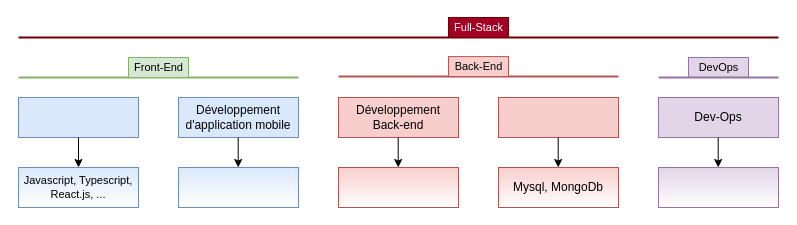
The diagram is 797 pixels wide and 225 high, and some of its shapes have lost their labels. The shapes that lost their labels are listed below. From the top down, each one's centre as x and y in pixels, then its label:
(78,117): Développement Front-End
(558,117): Base de donnée
(238,187): React-Native
(398,187): Flask, RabbitMq, Nginx, Apache, ...
(718,187): Gitlab, CI/CD, Docker ...
